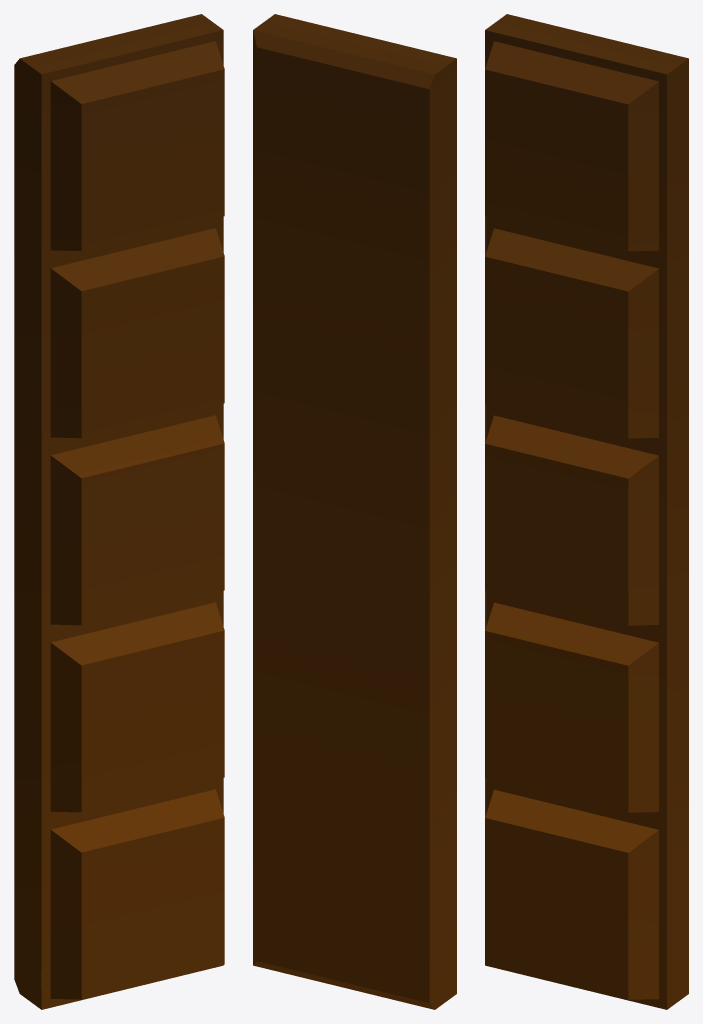
File: Chocolate Half.fbx
The picture shows the model from 3 angles, left to right: view 1: azimuth 30°, elevation 25°; view 2: azimuth 150°, elevation 25°; view 3: azimuth 330°, elevation 25°; orthographic projection.
Visible parts, largest first — view 1: Chocolate Half; view 2: Chocolate Half; view 3: Chocolate Half.
Part boxes in pixels (<box>): Chocolate Half: <box>14,14,224,1009</box>; Chocolate Half: <box>253,14,456,1009</box>; Chocolate Half: <box>485,14,688,1009</box>.
Bounding box in the file's own units: 0.0219 × 0.1075 × 0.00986.
